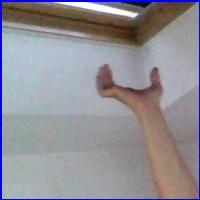space: (89, 59, 167, 110)
